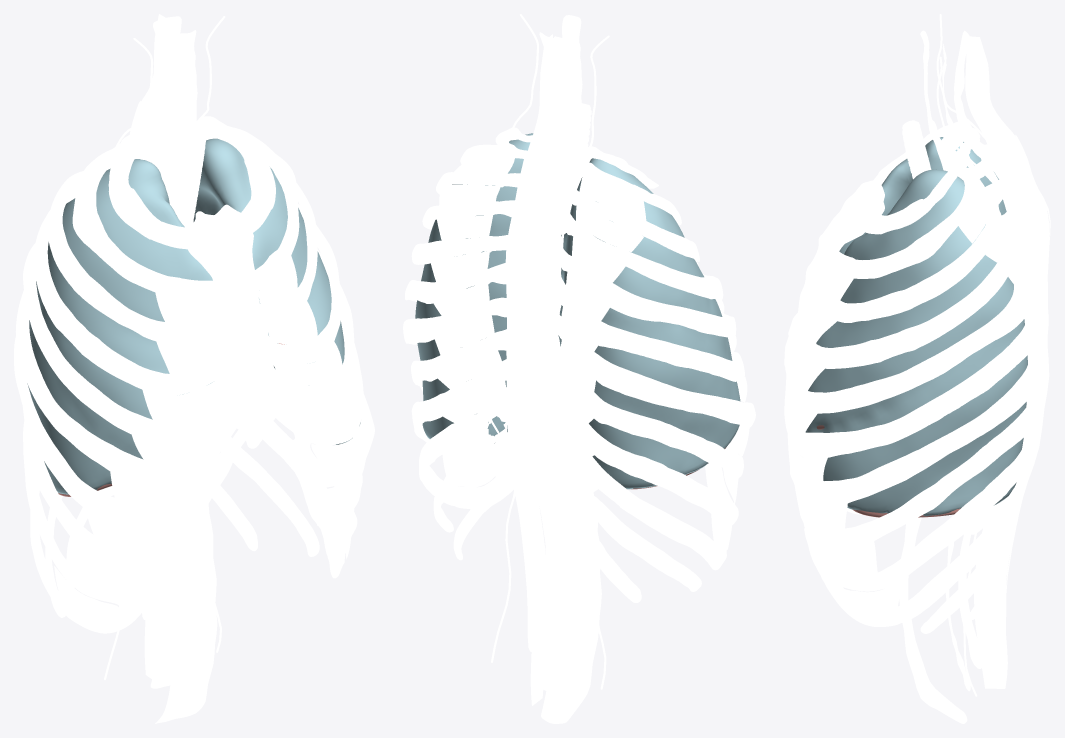
The model's file is thorax.glb.
3 renders of one model, left to right at view 1: azimuth 30°, elevation 25°; view 2: azimuth 150°, elevation 25°; view 3: azimuth 270°, elevation 25°, orthographic. The views are drawn at different scales.
Parts seen in each view (by area): view 1: Pleura, External intercostal membrane.r, Anterior longitudinal ligament, External intercostal membrane.l, Body of sternum, Fourth rib.r, Sixth rib.r, Fifth rib.r, Second rib.r, Third rib.r, Manubrium of sternum, Costal cartilage of seventh rib.r (+33 smaller); view 2: Pleura, Internal intercostal membrane.l, Ligamenta flava, Anterior longitudinal ligament, Interspinous ligaments, Internal intercostal membrane.r, Posterior longitudinal ligament, Seventh rib.r, Eighth rib.r, Sixth rib.r, Supraspinous ligament, Ninth rib.r (+27 smaller); view 3: Pleura, Interspinous ligaments, External intercostal membrane.l, Sixth rib.l, Fifth rib.l, Seventh rib.l, Fourth rib.l, Eighth rib.l, Third rib.l, Ninth rib.l, Second rib.l, Tenth rib.l (+19 smaller).
Part boxes in pixels (x1,y1,x2,y2): Pleura: (27, 138, 360, 494); External intercostal membrane.r: (54, 287, 230, 619); Anterior longitudinal ligament: (155, 30, 217, 723); External intercostal membrane.l: (259, 254, 366, 559); Body of sternum: (219, 278, 280, 431); Fourth rib.r: (34, 210, 173, 396); Sixth rib.r: (15, 280, 150, 487); Fifth rib.r: (23, 243, 164, 445); Second rib.r: (72, 143, 181, 297); Third rib.r: (47, 167, 180, 341); Manubrium of sternum: (186, 204, 255, 289); Costal cartilage of seventh rib.r: (113, 428, 248, 529); Pleura: (415, 133, 740, 489); Internal intercostal membrane.l: (431, 154, 514, 477); Ligamenta flava: (522, 32, 568, 673); Anterior longitudinal ligament: (540, 15, 601, 723); Interspinous ligaments: (510, 34, 552, 705); Internal intercostal membrane.r: (560, 175, 646, 493); Posterior longitudinal ligament: (532, 36, 573, 692); Seventh rib.r: (548, 306, 755, 428); Eighth rib.r: (550, 336, 743, 478); Sixth rib.r: (550, 272, 744, 381); Supraspinous ligament: (505, 152, 536, 652); Ninth rib.r: (557, 372, 733, 527); Pleura: (805, 137, 1027, 516); Interspinous ligaments: (964, 36, 1049, 688); External intercostal membrane.l: (784, 263, 901, 613); Sixth rib.l: (801, 286, 1044, 458); Fifth rib.l: (797, 254, 1032, 413); Seventh rib.l: (818, 345, 1043, 505); Fourth rib.l: (809, 217, 1019, 368); Eighth rib.l: (841, 363, 1043, 549); Third rib.l: (829, 186, 1001, 322); Ninth rib.l: (875, 401, 1039, 588); Second rib.l: (841, 167, 980, 278); Tenth rib.l: (894, 465, 1029, 622).
Bounding box in the file's own units: 0.2833 × 0.6115 × 0.2149.
